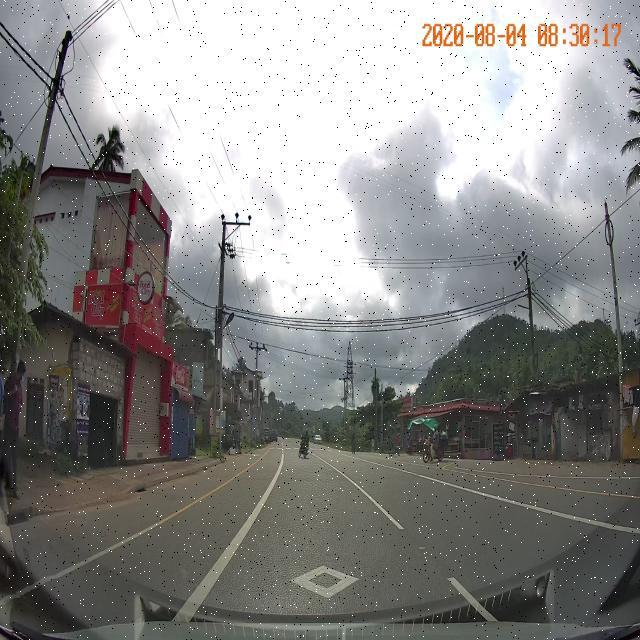diamond: (180, 542, 487, 606)
